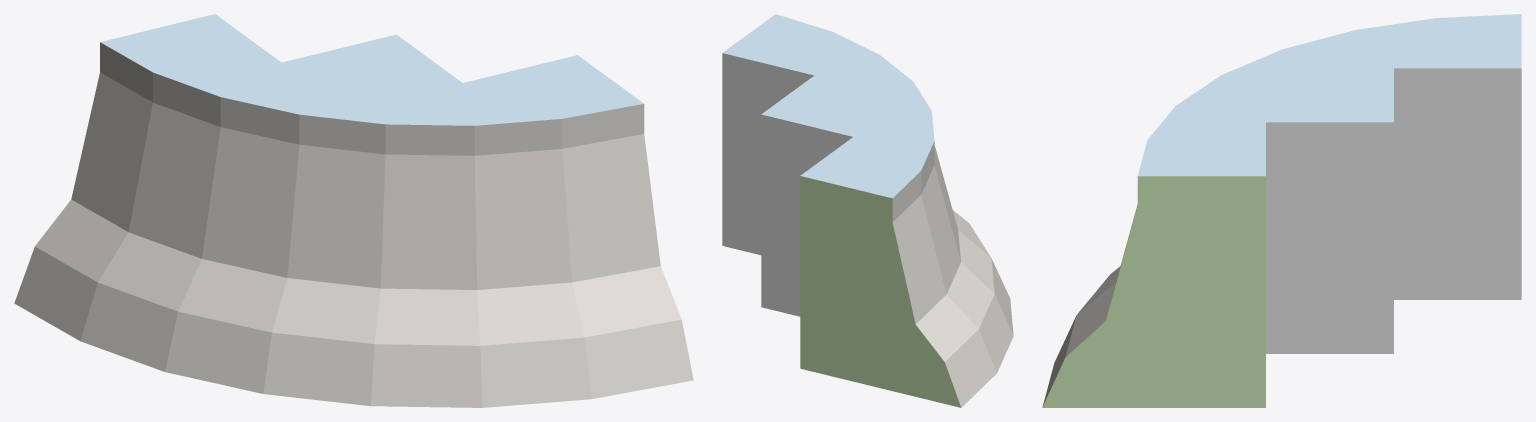
The model's file is Wall_Curve_Outer_4x4_Base.glb.
3 renders of one model, left to right at view 1: azimuth 30°, elevation 25°; view 2: azimuth 150°, elevation 25°; view 3: azimuth 270°, elevation 25°, orthographic. The views are drawn at different scales.
Parts seen in each view (by area): view 1: Wall_Curve_Outer_4x4_Base; view 2: Wall_Curve_Outer_4x4_Base; view 3: Wall_Curve_Outer_4x4_Base.
Boxes of the visible parts, x1,y1,x2,y2 form: Wall_Curve_Outer_4x4_Base: [14, 14, 693, 407]; Wall_Curve_Outer_4x4_Base: [722, 14, 1013, 407]; Wall_Curve_Outer_4x4_Base: [1042, 14, 1521, 407].
Bounding box in the file's own units: 375 × 200 × 375.
